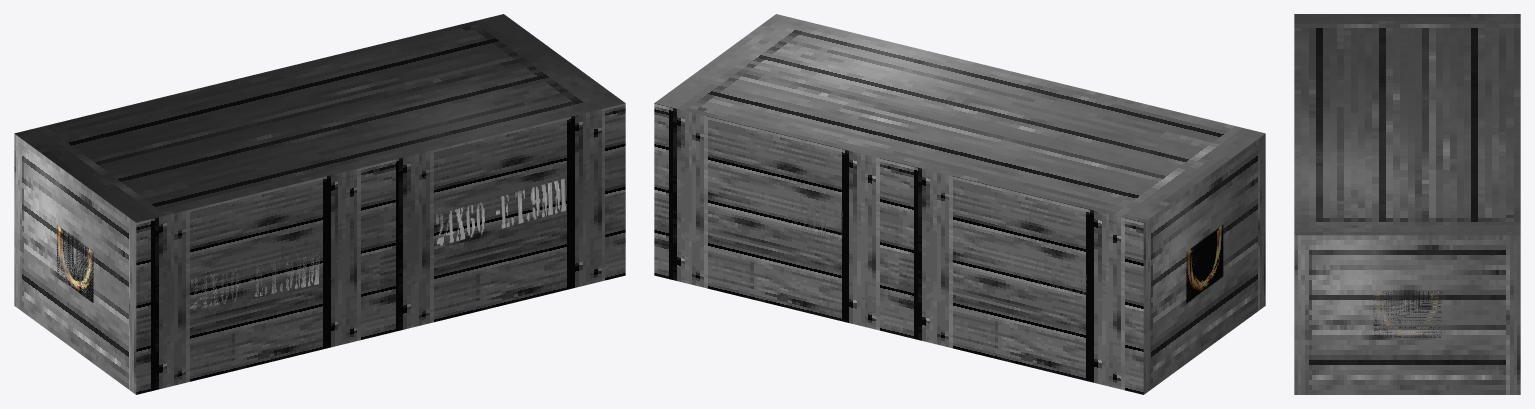
File: Pammo_crate5Z.obj
3 views of the same model, side by side, from view 1: azimuth 30°, elevation 25°; view 2: azimuth 150°, elevation 25°; view 3: azimuth 270°, elevation 25° (orthographic). The views are drawn at different scales.
Bounding box in the file's own units: 1214 × 408 × 524.
Materials: 5 (5 with a texture image).
